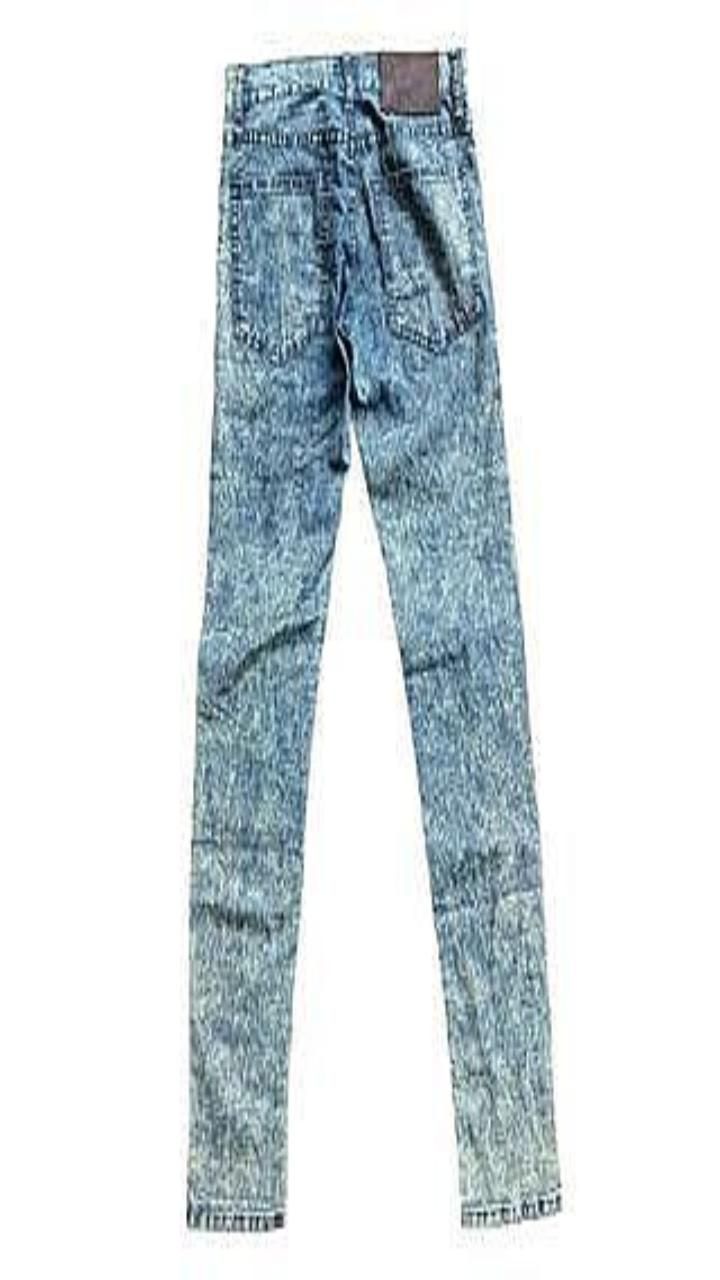Jeans: (187, 49, 560, 1229)
